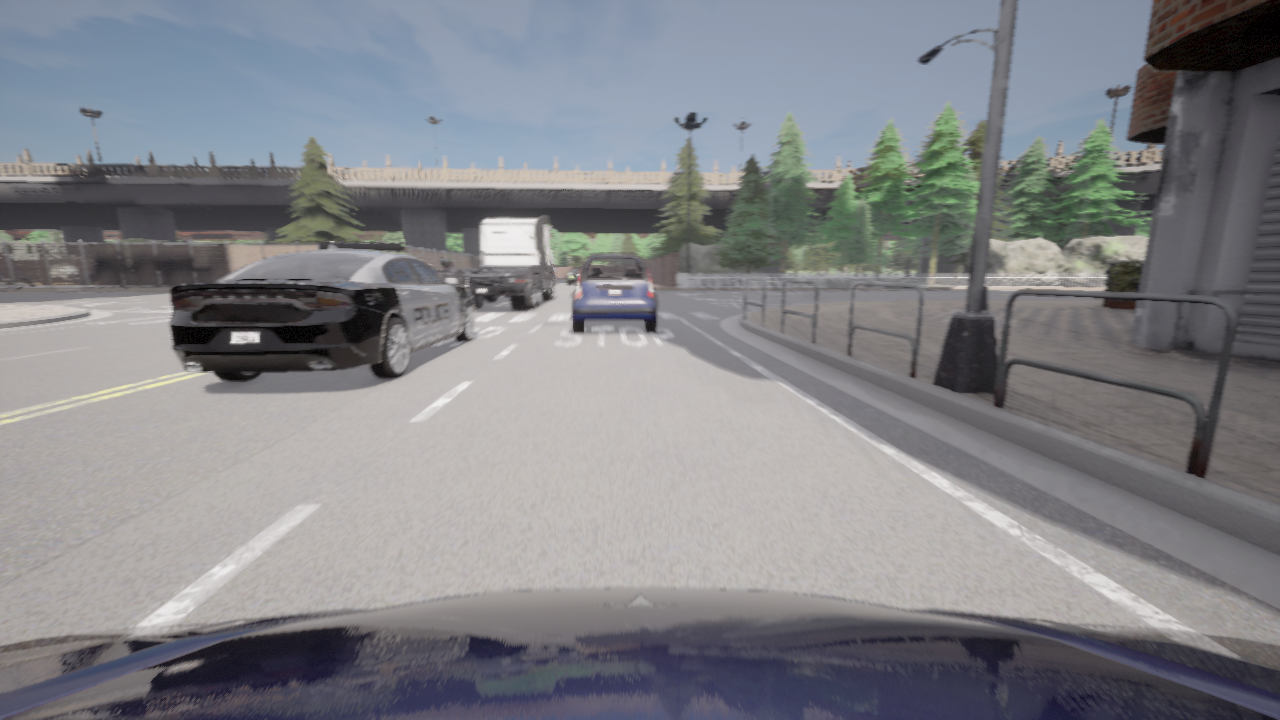cyclist: (0, 588, 1279, 719), (169, 241, 474, 381), (442, 216, 559, 310), (571, 254, 657, 333), (567, 271, 579, 284)
